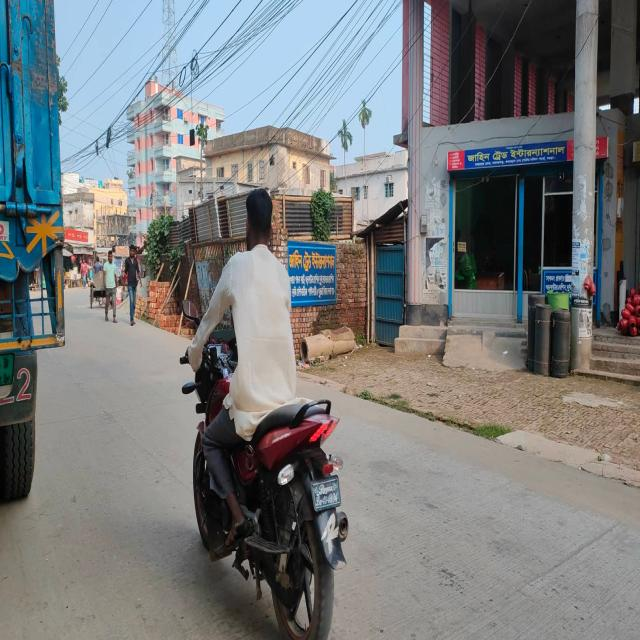Motorbike: (180, 330, 362, 640)
